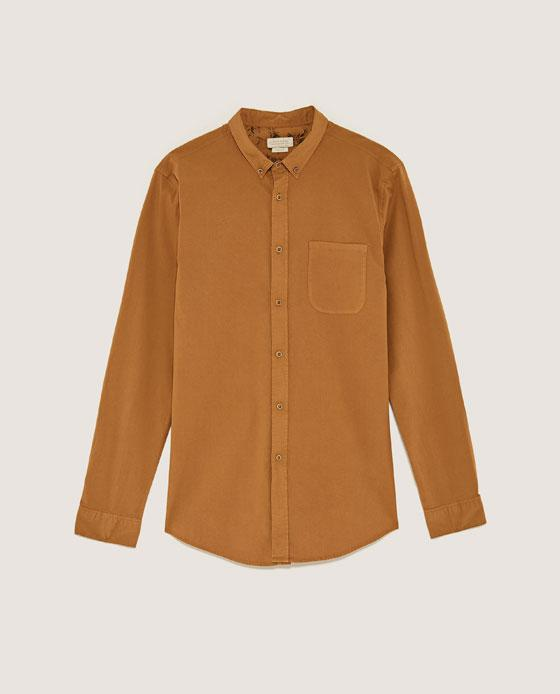teeshirt: (74, 101, 495, 593)
